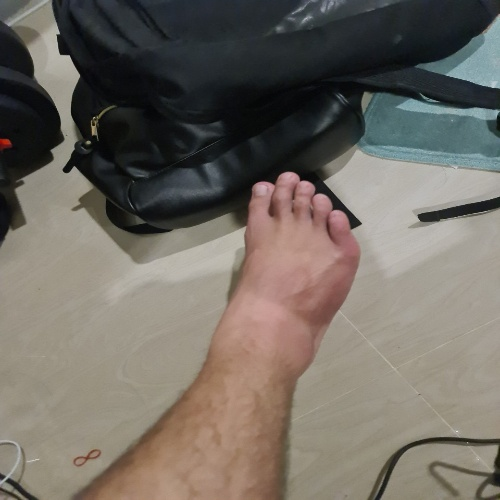3: (245, 182, 281, 225)
Top_Foot: (232, 170, 365, 408)
